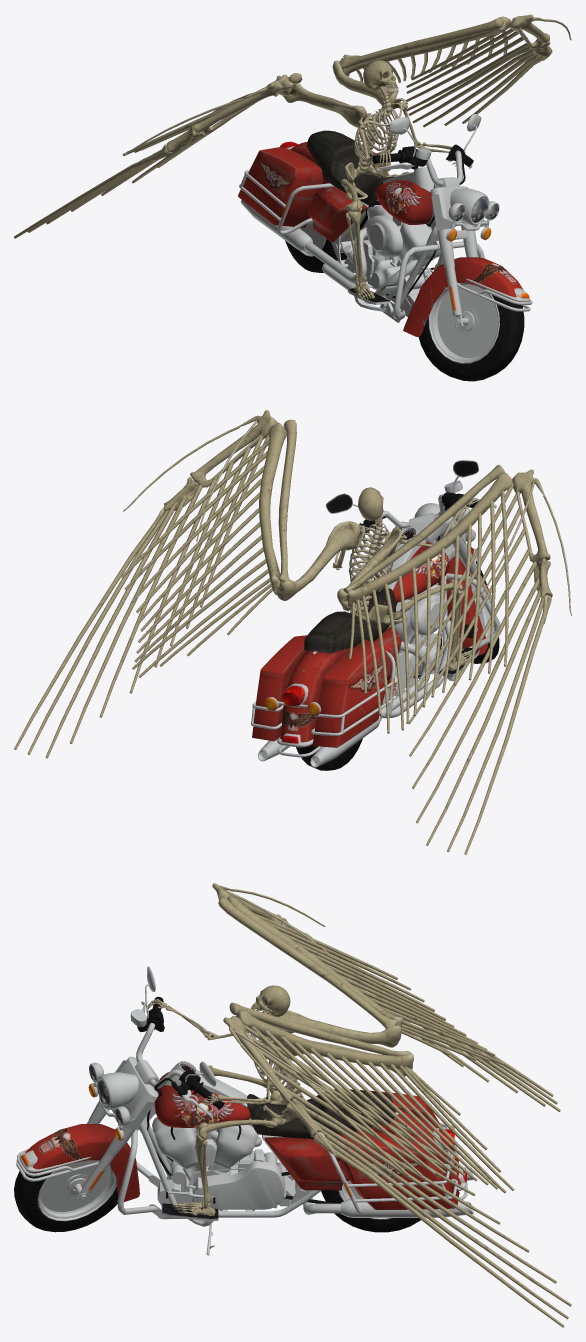
Rendered from Prop_MotorBike_Skeleton.fbx.
The picture shows the model from 3 angles, top to bottom: view 1: azimuth 30°, elevation 25°; view 2: azimuth 150°, elevation 25°; view 3: azimuth 270°, elevation 25°; orthographic projection. The views are drawn at different scales.
Parts seen in each view (by area): view 1: MotorBike_Base, Skeleton_Left_Wing, Skeleton_Right_Wing, Skeleton_Base; view 2: MotorBike_Base, Skeleton_Left_Wing, Skeleton_Right_Wing, Skeleton_Base; view 3: MotorBike_Base, Skeleton_Left_Wing, Skeleton_Right_Wing, Skeleton_Base.
Boxes of the visible parts, <box> form: MotorBike_Base: <box>238,114,532,381</box>; Skeleton_Left_Wing: <box>332,14,571,127</box>; Skeleton_Right_Wing: <box>14,73,366,238</box>; Skeleton_Base: <box>340,60,462,299</box>; MotorBike_Base: <box>250,460,500,770</box>; Skeleton_Left_Wing: <box>14,410,360,758</box>; Skeleton_Right_Wing: <box>337,464,571,854</box>; Skeleton_Base: <box>332,487,479,670</box>; MotorBike_Base: <box>14,966,473,1255</box>; Skeleton_Left_Wing: <box>223,1002,571,1327</box>; Skeleton_Right_Wing: <box>212,883,560,1111</box>; Skeleton_Base: <box>146,985,305,1215</box>.
Size of the model in its own units: 140 by 80.68 by 143.
